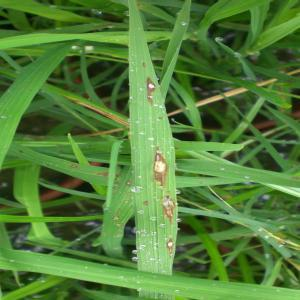1 RiceBlast: (142, 147, 180, 190), (157, 190, 185, 226), (140, 70, 159, 104), (160, 233, 180, 253)
